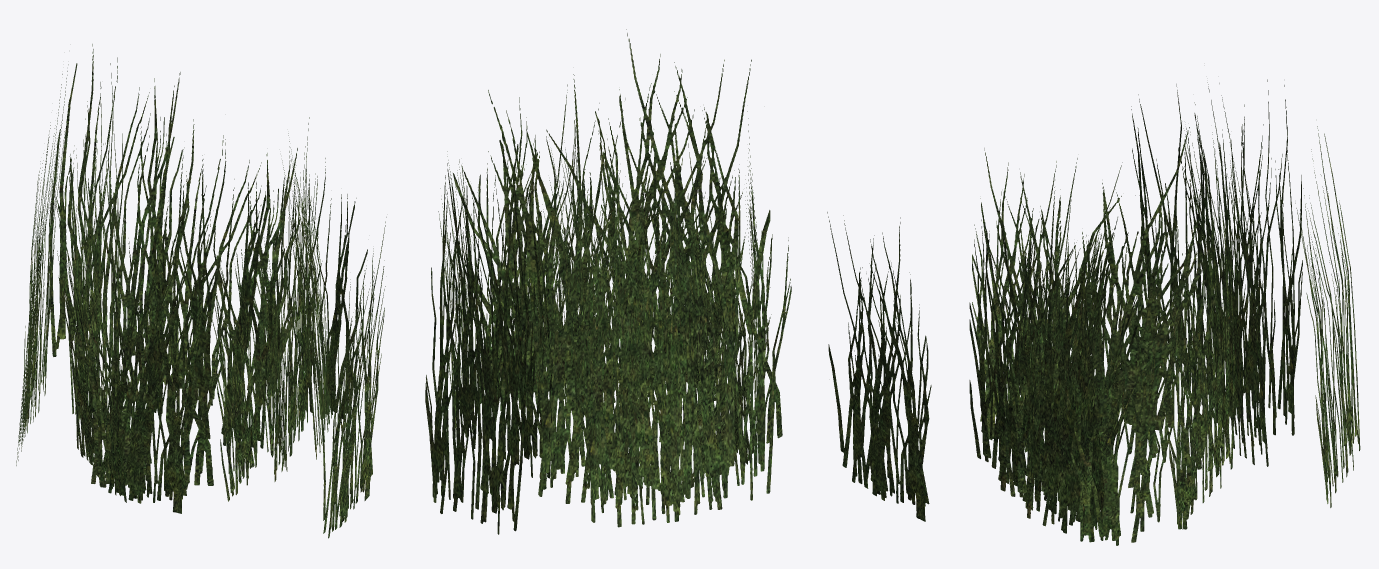
Rendered from grass_3d_02.glb.
3 renders of one model, left to right at view 1: azimuth 30°, elevation 25°; view 2: azimuth 150°, elevation 25°; view 3: azimuth 270°, elevation 25°, orthographic. The views are drawn at different scales.
Visible parts, largest first — view 1: grass_cards; view 2: grass_cards; view 3: grass_cards.
Boxes of the visible parts, box(x1,y1,x2,y2) form: grass_cards: box(16, 44, 386, 538); grass_cards: box(425, 29, 791, 534); grass_cards: box(827, 79, 1360, 545).
Size of the model in its own units: 0.611 by 0.6851 by 0.8281.
1 material, 1 textured.
